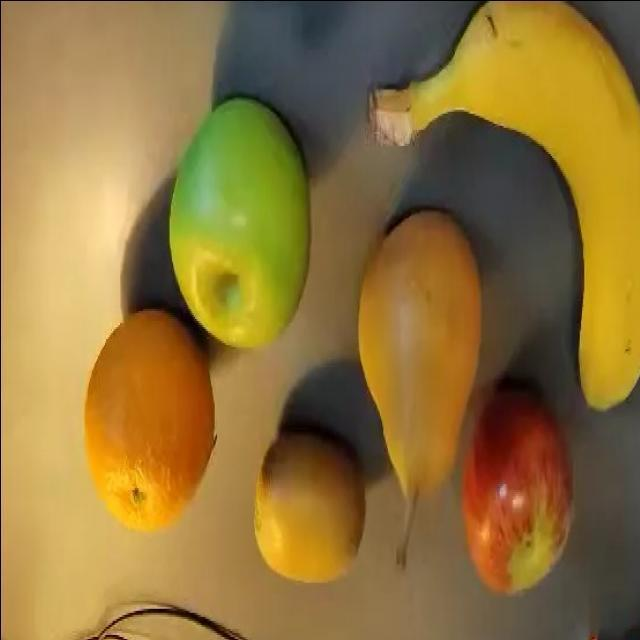Apple: (167, 94, 311, 349), (460, 378, 574, 597)
Banana: (366, 0, 639, 411)
Orange: (82, 308, 216, 531)
